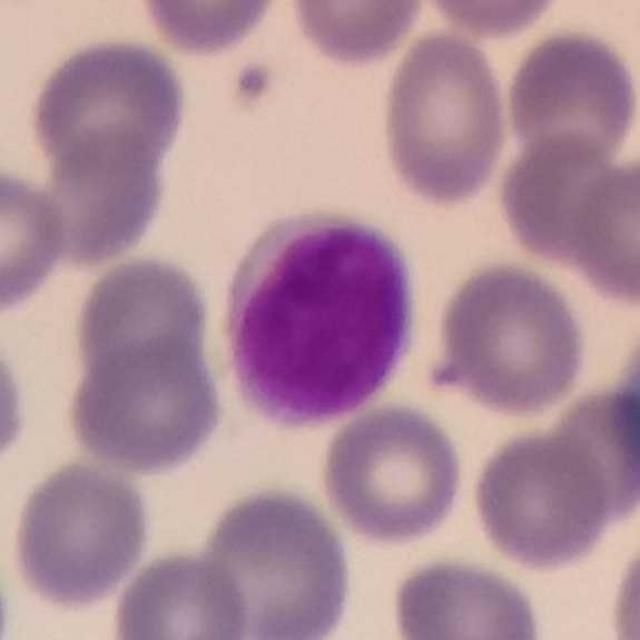Lymphocyte: (213, 202, 426, 432)
RBC: (427, 256, 591, 420), (192, 479, 357, 640), (376, 27, 513, 210), (25, 32, 192, 182), (62, 332, 230, 476), (315, 398, 470, 551), (493, 126, 640, 284), (4, 458, 155, 611), (468, 422, 614, 574), (27, 119, 175, 268), (69, 250, 217, 394), (501, 25, 640, 172), (536, 374, 639, 526), (386, 552, 548, 640), (107, 546, 254, 640), (562, 150, 640, 307), (0, 162, 72, 321), (284, 0, 428, 71), (133, 0, 286, 58), (601, 307, 639, 509), (413, 0, 568, 39), (0, 325, 33, 483), (604, 527, 639, 640)
